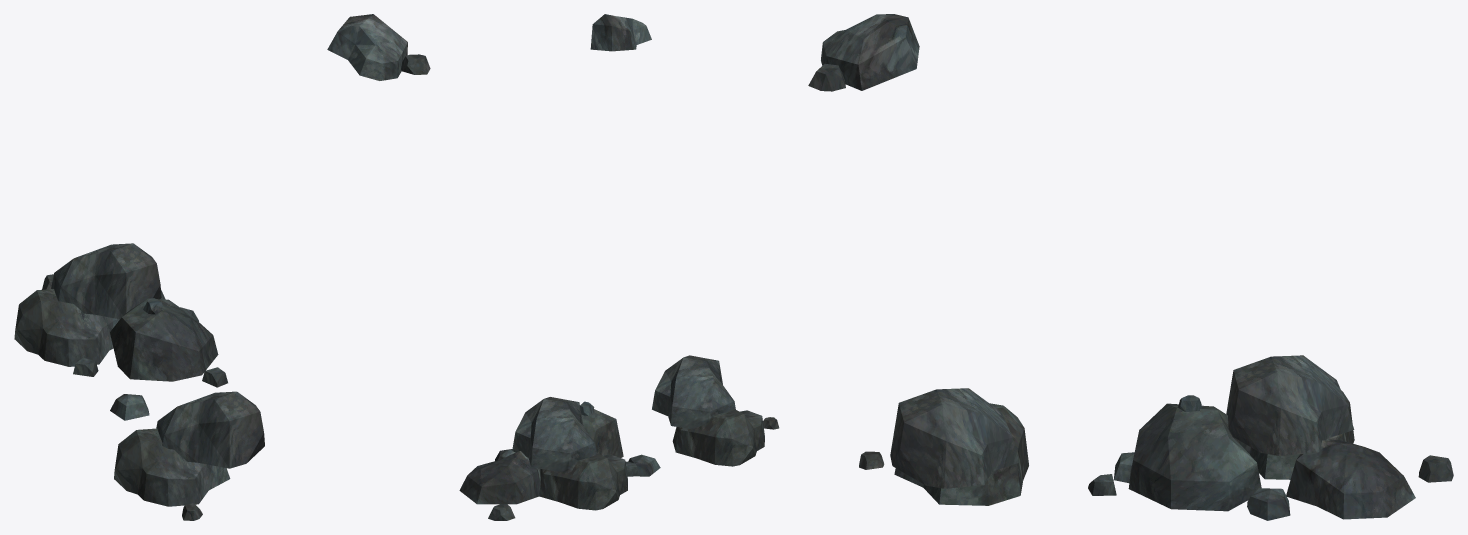
Rendered from object_rubble29.fbx.
3 views of the same model, side by side, from view 1: azimuth 30°, elevation 25°; view 2: azimuth 150°, elevation 25°; view 3: azimuth 270°, elevation 25° (orthographic). The views are drawn at different scales.
Visible parts, largest first — view 1: obj0.102; view 2: obj0.102; view 3: obj0.102.
Boxes of the visible parts, left/top/right/bottom form: obj0.102: left=14, top=14, right=430, bottom=520; obj0.102: left=459, top=14, right=779, bottom=520; obj0.102: left=808, top=14, right=1453, bottom=520.
Bounding box in the file's own units: 4.91 × 8.55 × 8.93.
